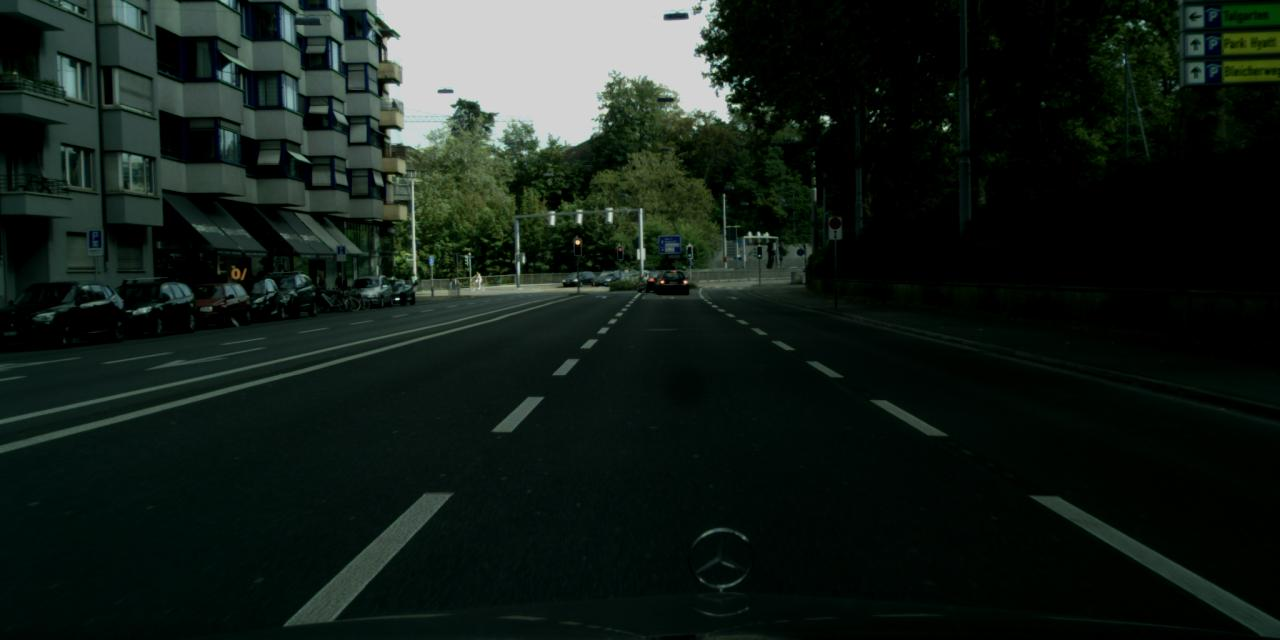ped: (334, 272, 346, 300), (316, 273, 326, 301), (474, 271, 481, 288), (410, 273, 416, 291)
